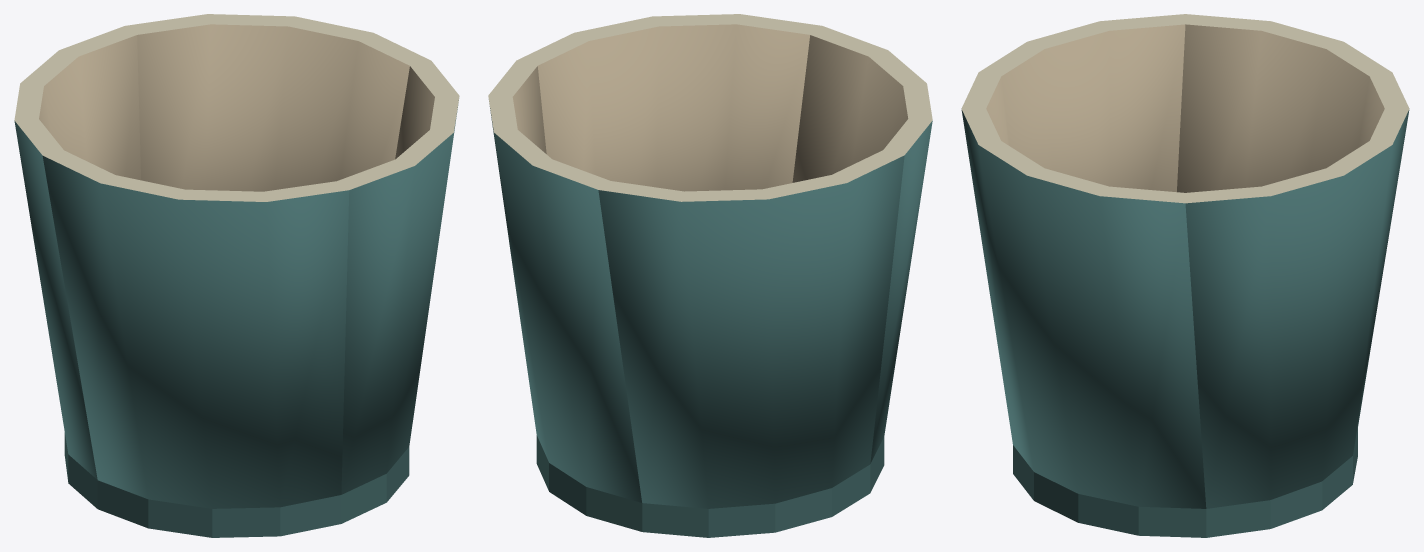
The model's file is 11_deco_plant_potfragments.glb.
3 renders of one model, left to right at view 1: azimuth 30°, elevation 25°; view 2: azimuth 150°, elevation 25°; view 3: azimuth 270°, elevation 25°, orthographic.
Parts seen in each view (by area): view 1: Pot_Shard_02, Pot_Shard_00, Pot_Shard_03, Pot_Shard_01, Pot_Shard_04; view 2: Pot_Shard_01, Pot_Shard_03, Pot_Shard_00, Pot_Shard_02, Pot_Shard_04; view 3: Pot_Shard_03, Pot_Shard_00, Pot_Shard_01, Pot_Shard_02, Pot_Shard_04.
Boxes of the visible parts, box(x1,y1,x2,y2) form: Pot_Shard_02: box(42, 150, 349, 508); Pot_Shard_00: box(125, 14, 430, 191); Pot_Shard_03: box(337, 60, 459, 494); Pot_Shard_01: box(14, 26, 140, 479); Pot_Shard_04: box(64, 433, 409, 537); Pot_Shard_01: box(598, 150, 904, 508); Pot_Shard_03: box(516, 14, 821, 191); Pot_Shard_00: box(488, 60, 641, 502); Pot_Shard_02: box(792, 26, 932, 463); Pot_Shard_04: box(536, 435, 884, 537); Pot_Shard_03: box(961, 108, 1206, 508); Pot_Shard_00: box(1185, 108, 1409, 508); Pot_Shard_01: box(1177, 14, 1409, 192); Pot_Shard_02: box(961, 14, 1185, 192); Pot_Shard_04: box(1013, 428, 1357, 537).
Size of the model in its own units: 0.49 by 0.43 by 0.49.
